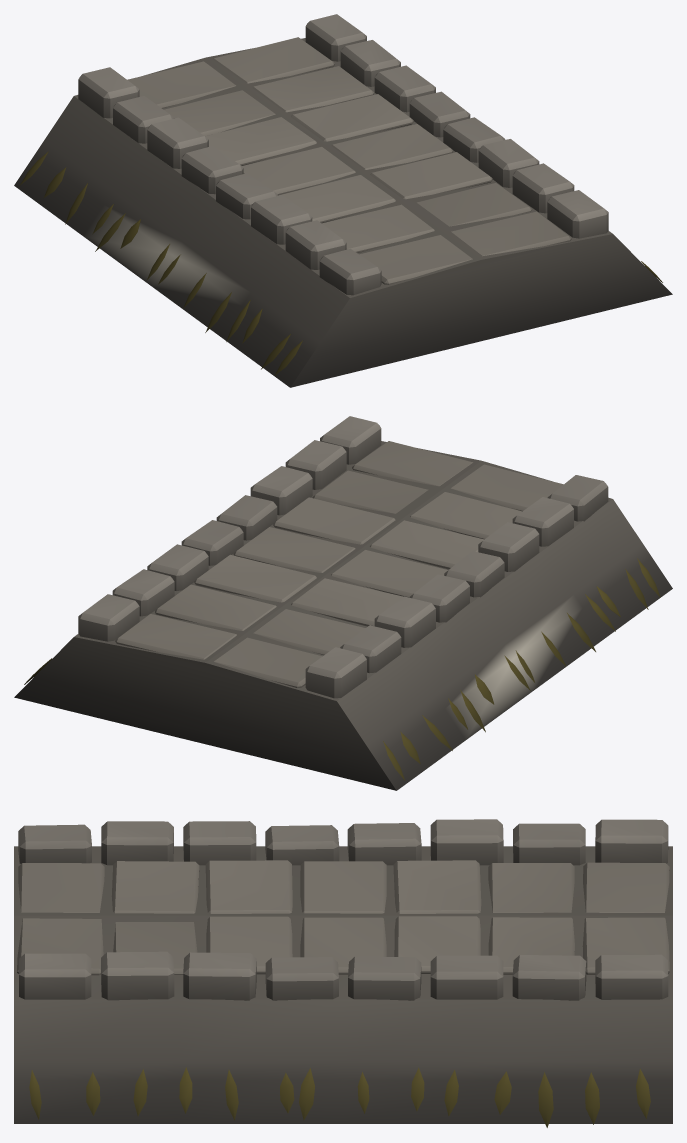
File: road.glb
The picture shows the model from 3 angles, top to bottom: view 1: azimuth 30°, elevation 25°; view 2: azimuth 150°, elevation 25°; view 3: azimuth 270°, elevation 25°; orthographic projection. The views are drawn at different scales.
Parts seen in each view (by area): view 1: causeway_road; view 2: causeway_road; view 3: causeway_road.
Boxes of the visible parts, x1,y1,x2,y2 form: causeway_road: [14, 14, 672, 387]; causeway_road: [14, 416, 672, 790]; causeway_road: [14, 819, 672, 1127].
Bounding box in the file's own units: 1.64 × 0.4136 × 2.
